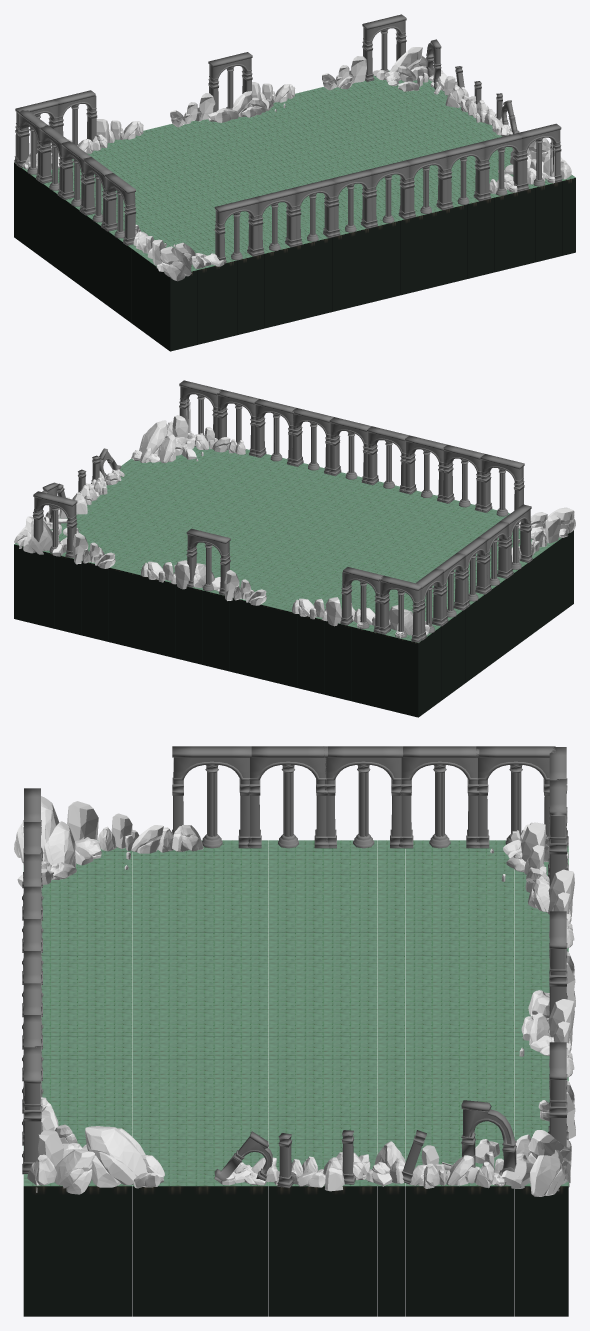
File: Map_06.fbx
The picture shows the model from 3 angles, top to bottom: view 1: azimuth 30°, elevation 25°; view 2: azimuth 150°, elevation 25°; view 3: azimuth 270°, elevation 25°; orthographic projection. The views are drawn at different scales.
Parts seen in each view (by area): view 1: Sea_Temple_Map_06, Sea_Temple_Map_06.001, Sea_Temple_Map_06.002; view 2: Sea_Temple_Map_06, Sea_Temple_Map_06.001, Sea_Temple_Map_06.002; view 3: Sea_Temple_Map_06, Sea_Temple_Map_06.001, Sea_Temple_Map_06.002.
Boxes of the visible parts, x1,y1,x2,y2 form: Sea_Temple_Map_06: (14,70,575,351); Sea_Temple_Map_06.001: (14,14,562,263); Sea_Temple_Map_06.002: (22,47,571,281); Sea_Temple_Map_06: (14,446,573,717); Sea_Temple_Map_06.001: (32,380,532,642); Sea_Temple_Map_06.002: (14,399,575,638); Sea_Temple_Map_06: (23,840,568,1316); Sea_Temple_Map_06.001: (22,746,568,1188); Sea_Temple_Map_06.002: (14,796,575,1196).
Bounding box in the file's own units: 12314 × 3639 × 8246.
